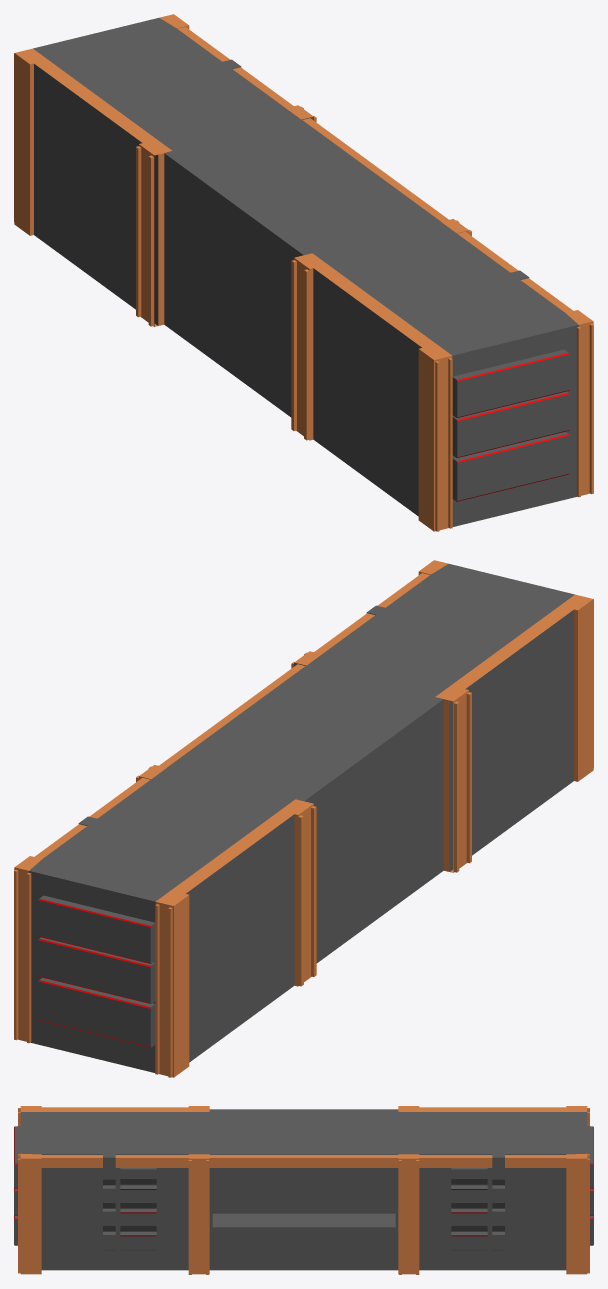
Rendered from building.fbx.
The picture shows the model from 3 angles, top to bottom: view 1: azimuth 30°, elevation 25°; view 2: azimuth 150°, elevation 25°; view 3: azimuth 270°, elevation 25°; orthographic projection. The views are drawn at different scales.
Parts seen in each view (by area): view 1: Building.003; view 2: Building.003; view 3: Building.003.
Boxes of the visible parts, x1,y1,x2,y2 form: Building.003: (14, 14, 593, 531); Building.003: (14, 560, 593, 1077); Building.003: (14, 1106, 593, 1274).
Bounding box in the file's own units: 38.06 × 32.59 × 148.
